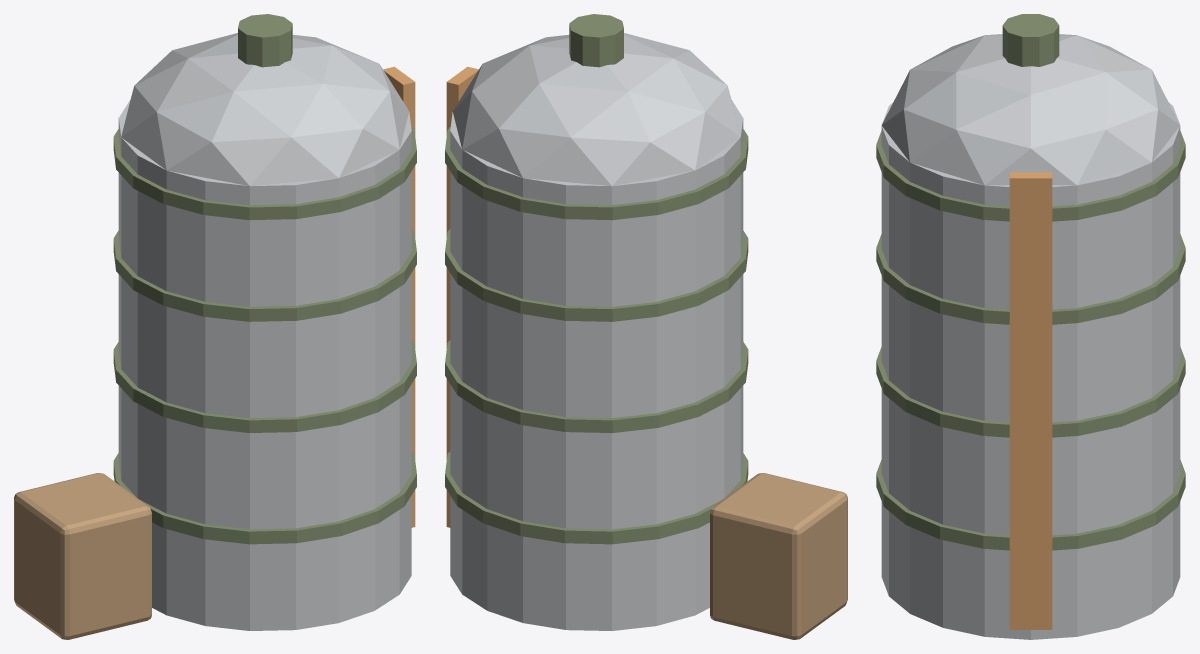
The model's file is silo.glb.
3 renders of one model, left to right at view 1: azimuth 30°, elevation 25°; view 2: azimuth 150°, elevation 25°; view 3: azimuth 270°, elevation 25°, orthographic.
Visible parts, largest first — view 1: agro_silo_00; view 2: agro_silo_00; view 3: agro_silo_00.
Part boxes in pixels (left/top/right/bottom): agro_silo_00: left=14, top=14, right=416, bottom=639; agro_silo_00: left=445, top=14, right=847, bottom=639; agro_silo_00: left=876, top=14, right=1185, bottom=639.
Bounding box in the file's own units: 1.21 × 1.71 × 0.87.
